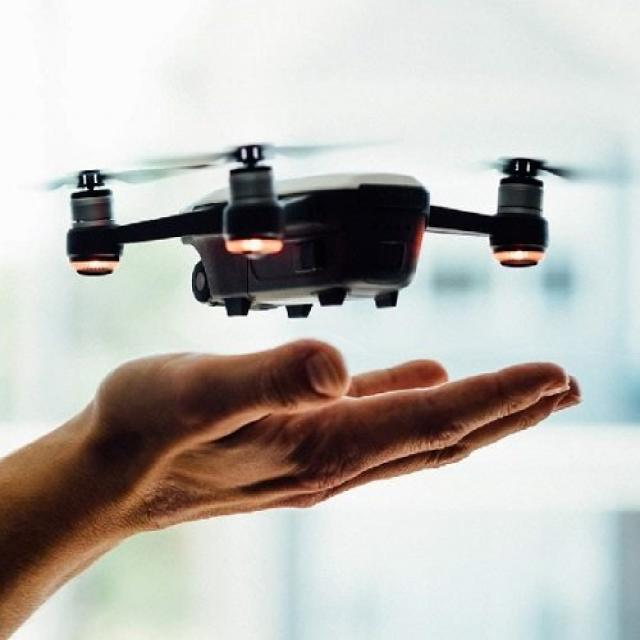drones: (37, 130, 638, 334)
